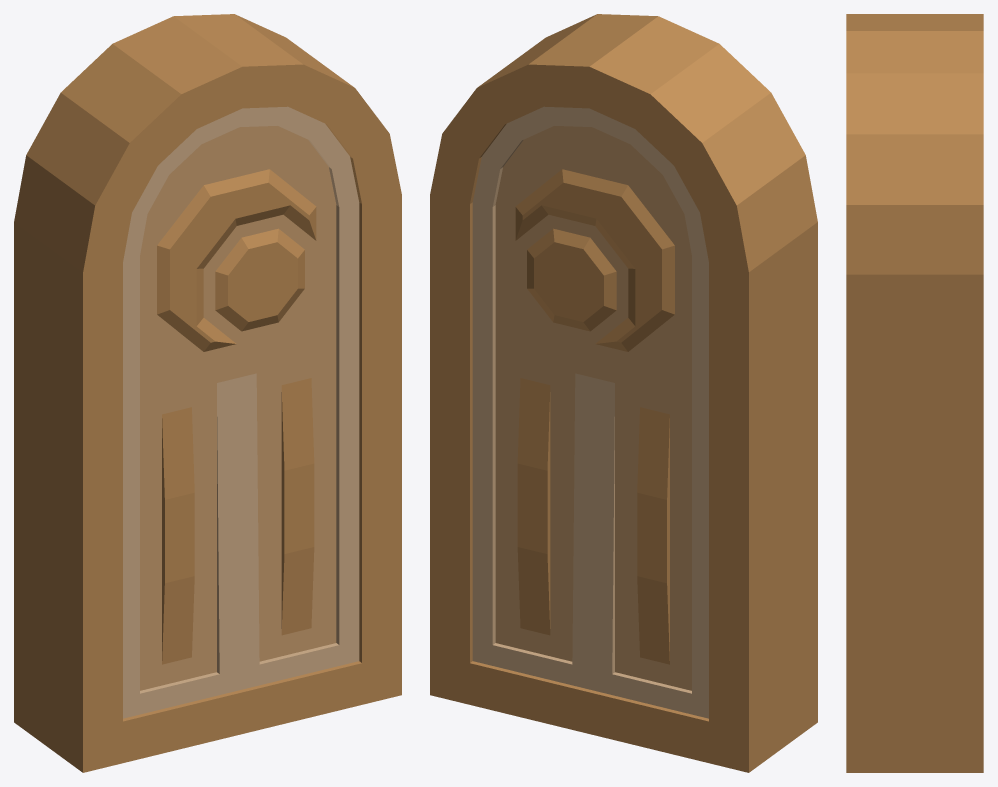
The model's file is Door_eclipse.glb.
3 views of the same model, side by side, from view 1: azimuth 30°, elevation 25°; view 2: azimuth 150°, elevation 25°; view 3: azimuth 270°, elevation 25° (orthographic).
Parts seen in each view (by area): view 1: mergedBlocks(Clone); view 2: mergedBlocks(Clone); view 3: mergedBlocks(Clone).
Boxes of the visible parts, box(x1,y1,x2,y2) form: mergedBlocks(Clone): box(14, 14, 401, 772); mergedBlocks(Clone): box(430, 14, 817, 772); mergedBlocks(Clone): box(846, 14, 983, 772).
Size of the model in its own units: 2.4 by 4.8 by 0.9.
